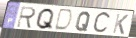C: (92, 11, 113, 35)
D: (53, 8, 74, 33)
K: (112, 13, 130, 36)
Q: (34, 7, 56, 31), (74, 11, 92, 32)
R: (15, 6, 38, 30)
